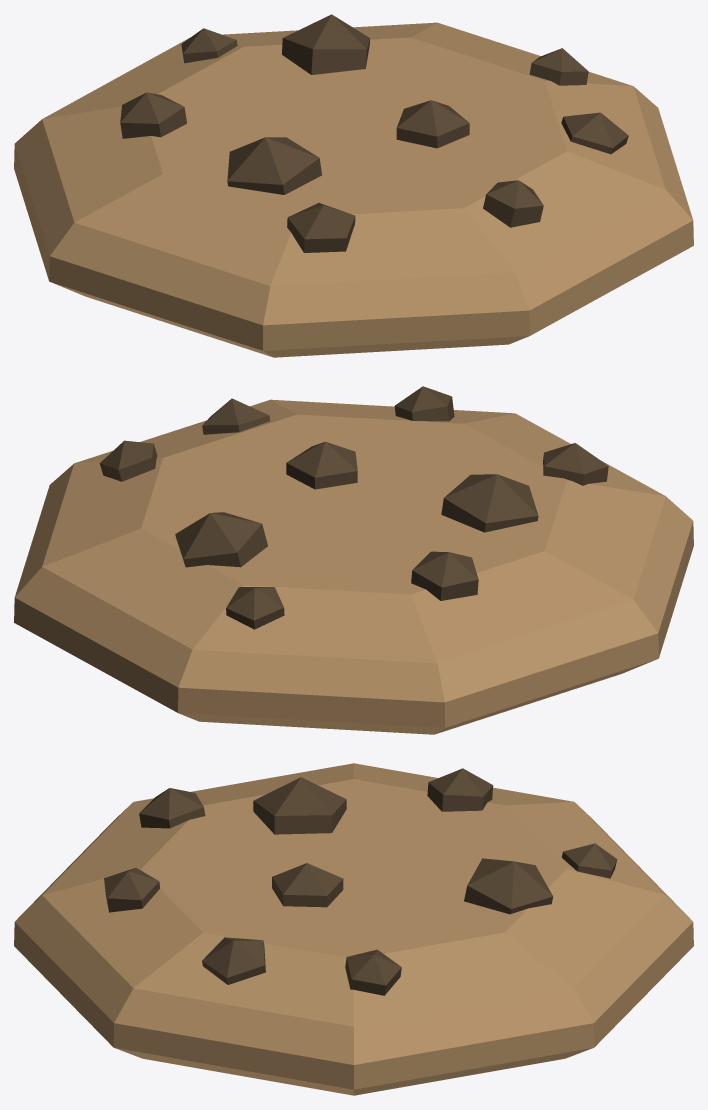
File: mod_cookie.fbx
3 views of the same model, one above another, from view 1: azimuth 30°, elevation 25°; view 2: azimuth 150°, elevation 25°; view 3: azimuth 270°, elevation 25° (orthographic). The views are drawn at different scales.
Parts seen in each view (by area): view 1: mod_cookie; view 2: mod_cookie; view 3: mod_cookie.
Part boxes in pixels (<box>): mod_cookie: <box>14,14,693,357</box>; mod_cookie: <box>14,386,693,734</box>; mod_cookie: <box>14,763,693,1095</box>.
Size of the model in its own units: 14.56 by 3.25 by 14.56.
